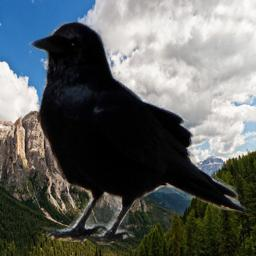Crow: (25, 19, 250, 245)
